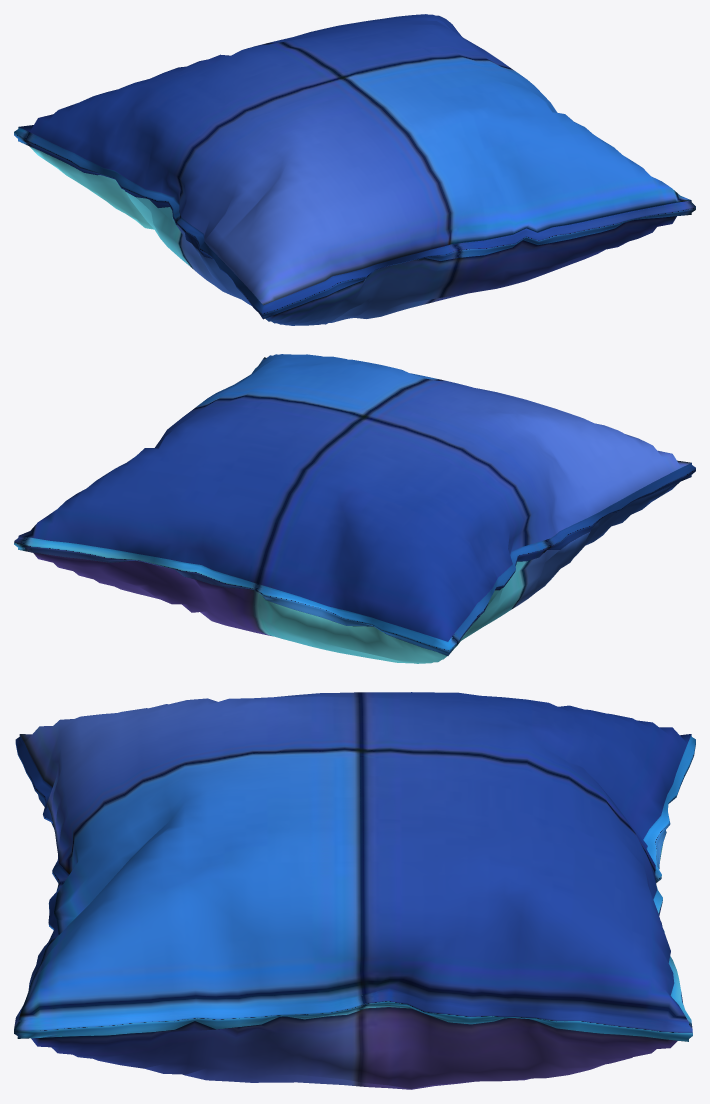
3 views of the same model, one above another, from view 1: azimuth 30°, elevation 25°; view 2: azimuth 150°, elevation 25°; view 3: azimuth 270°, elevation 25° (orthographic). The views are drawn at different scales.
Parts seen in each view (by area): view 1: Cube; view 2: Cube; view 3: Cube.
Boxes of the visible parts, x1=… form: Cube: x1=14, y1=14, x2=695, y2=325; Cube: x1=14, y1=354, x2=695, y2=663; Cube: x1=14, y1=692, x2=695, y2=1089.
Size of the model in its own units: 1.95 by 0.8063 by 1.92.
1 material, 1 textured.
